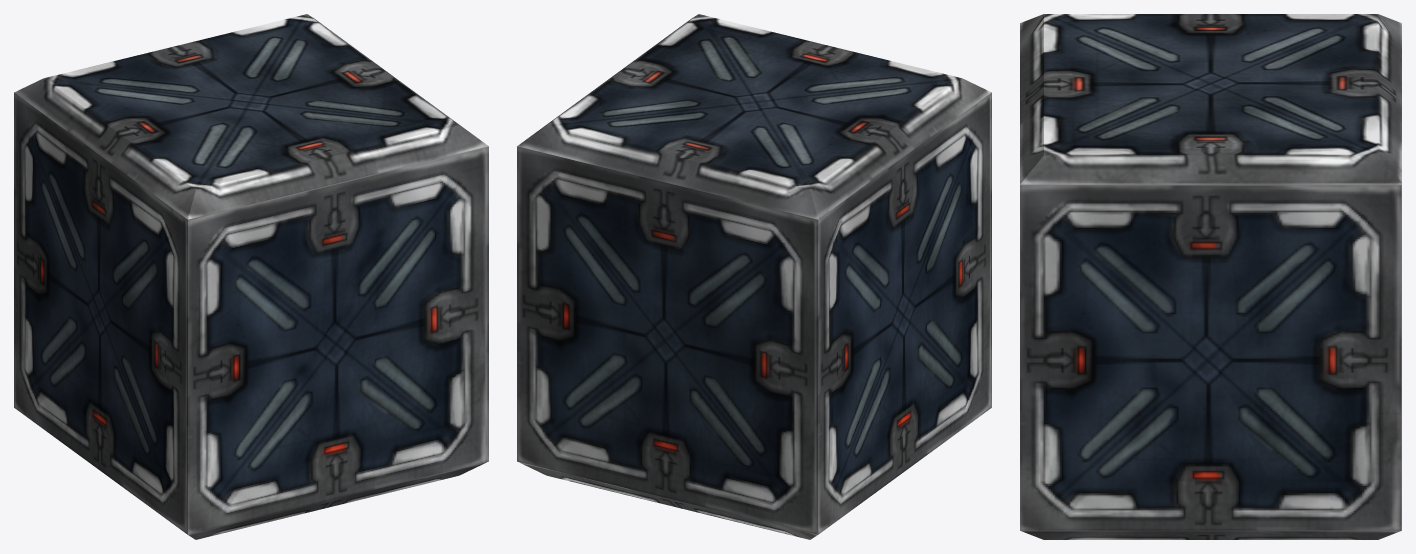
File: doodad_crate.fbx
3 renders of one model, left to right at view 1: azimuth 30°, elevation 25°; view 2: azimuth 150°, elevation 25°; view 3: azimuth 270°, elevation 25°, orthographic. The views are drawn at different scales.
Parts seen in each view (by area): view 1: pCube1; view 2: pCube1; view 3: pCube1.
Boxes of the visible parts, bbox=[...] form: pCube1: bbox=[14, 14, 488, 539]; pCube1: bbox=[517, 14, 991, 539]; pCube1: bbox=[1020, 14, 1401, 539].
Bounding box in the file's own units: 1.07 × 1.19 × 1.07.
1 material, 1 textured.
